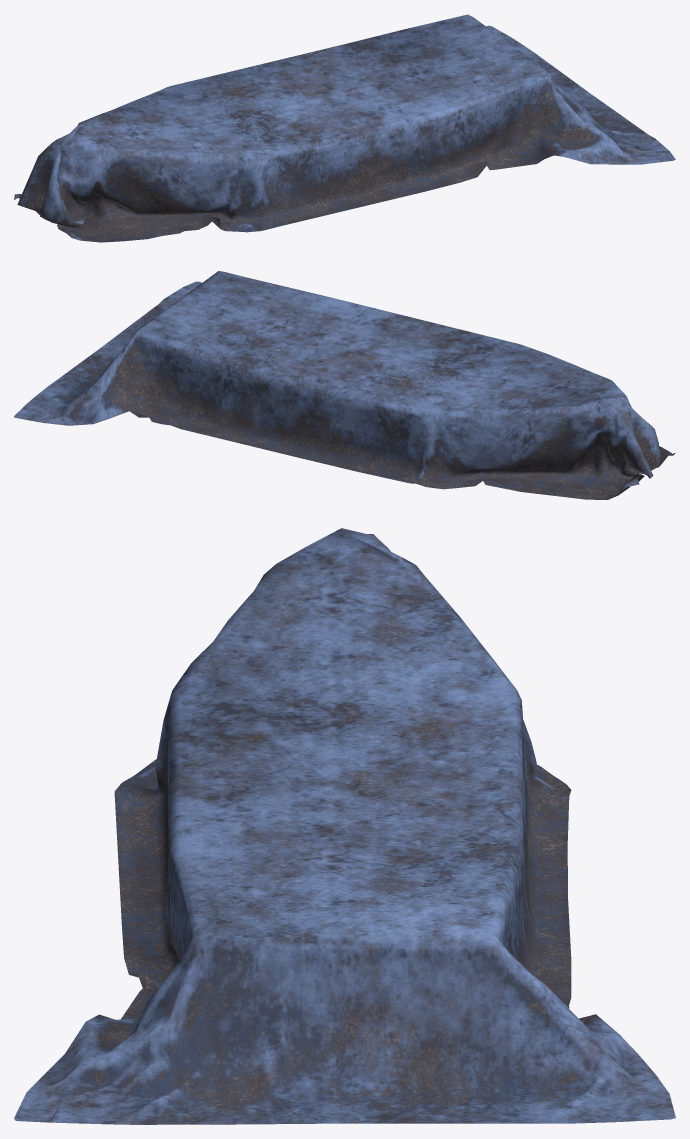
Rendered from covered_boat_low-poly.glb.
3 renders of one model, top to bottom at view 1: azimuth 30°, elevation 25°; view 2: azimuth 150°, elevation 25°; view 3: azimuth 270°, elevation 25°, orthographic. The views are drawn at different scales.
Parts seen in each view (by area): view 1: Plane.107; view 2: Plane.107; view 3: Plane.107.
Boxes of the visible parts, box(x1,y1,x2,y2) form: Plane.107: box(14, 14, 675, 242); Plane.107: box(14, 271, 675, 499); Plane.107: box(14, 528, 675, 1124).
Size of the model in its own units: 4.83 by 0.6477 by 2.75.
Materials: 1 (1 with a texture image).
